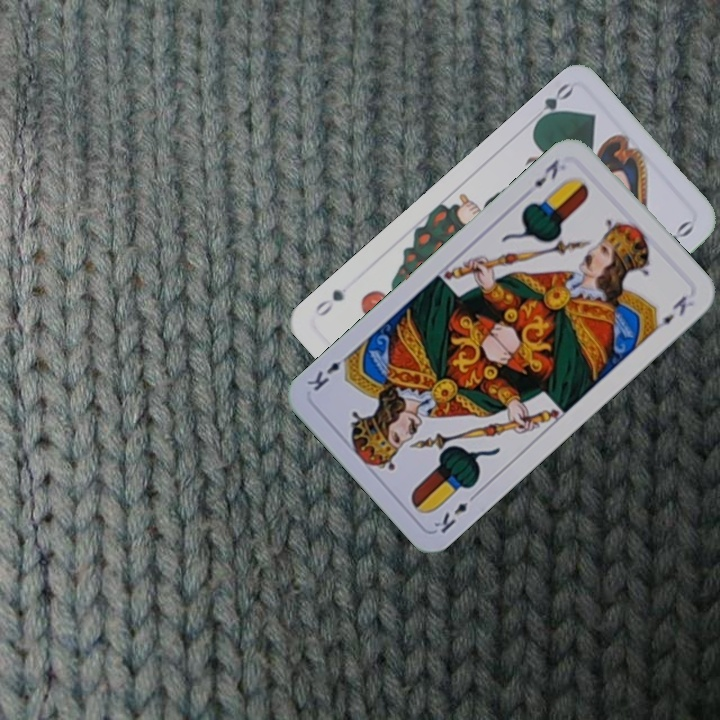EK: (429, 488, 481, 537), (529, 155, 562, 190)
GO: (530, 79, 576, 129)
